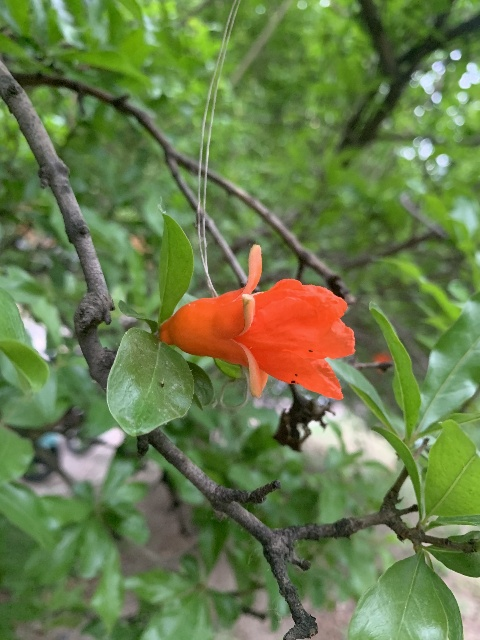flower: (162, 244, 359, 399)
